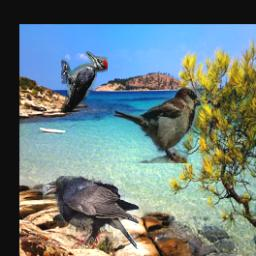Crow: (44, 176, 140, 249)
Sparrow: (113, 88, 202, 164)
Woodpecker: (61, 52, 108, 113)
